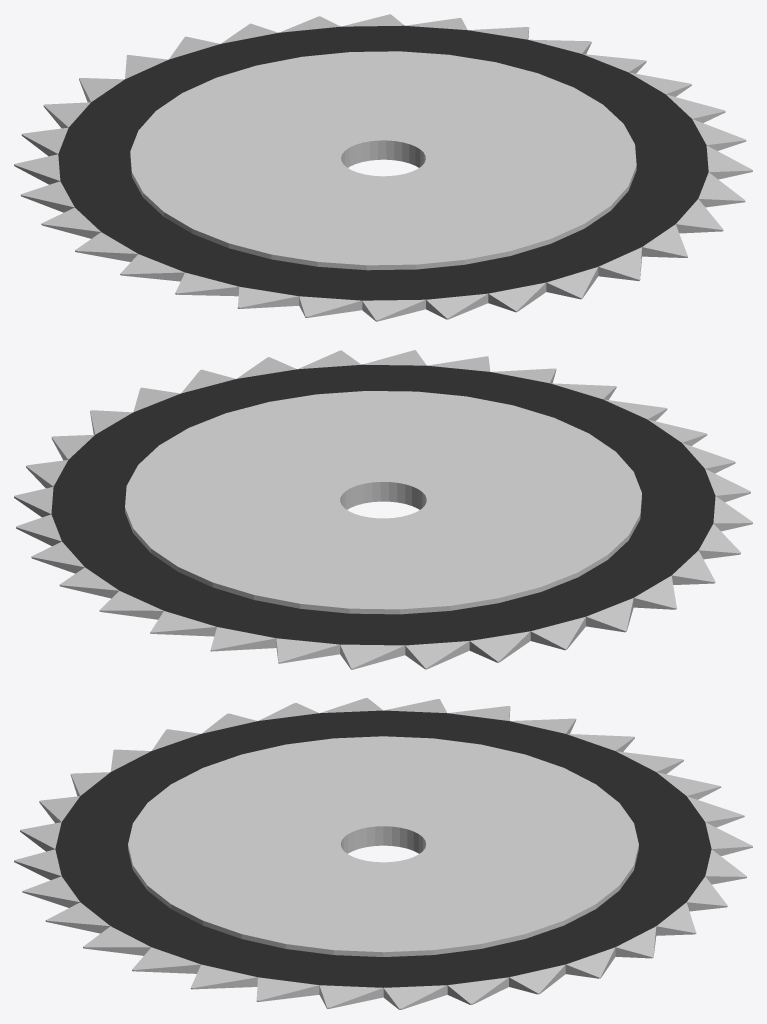
The model's file is Sawblade.glb.
The picture shows the model from 3 angles, top to bottom: view 1: azimuth 30°, elevation 25°; view 2: azimuth 150°, elevation 25°; view 3: azimuth 270°, elevation 25°; orthographic projection. The views are drawn at different scales.
Parts seen in each view (by area): view 1: Sawblade; view 2: Sawblade; view 3: Sawblade.
Part boxes in pixels (<box>): Sawblade: <box>14,14,752,321</box>; Sawblade: <box>14,350,752,669</box>; Sawblade: <box>14,698,752,1009</box>.
Bounding box in the file's own units: 2.24 × 0.0654 × 2.25.
Materials: 1 (1 with a texture image).
